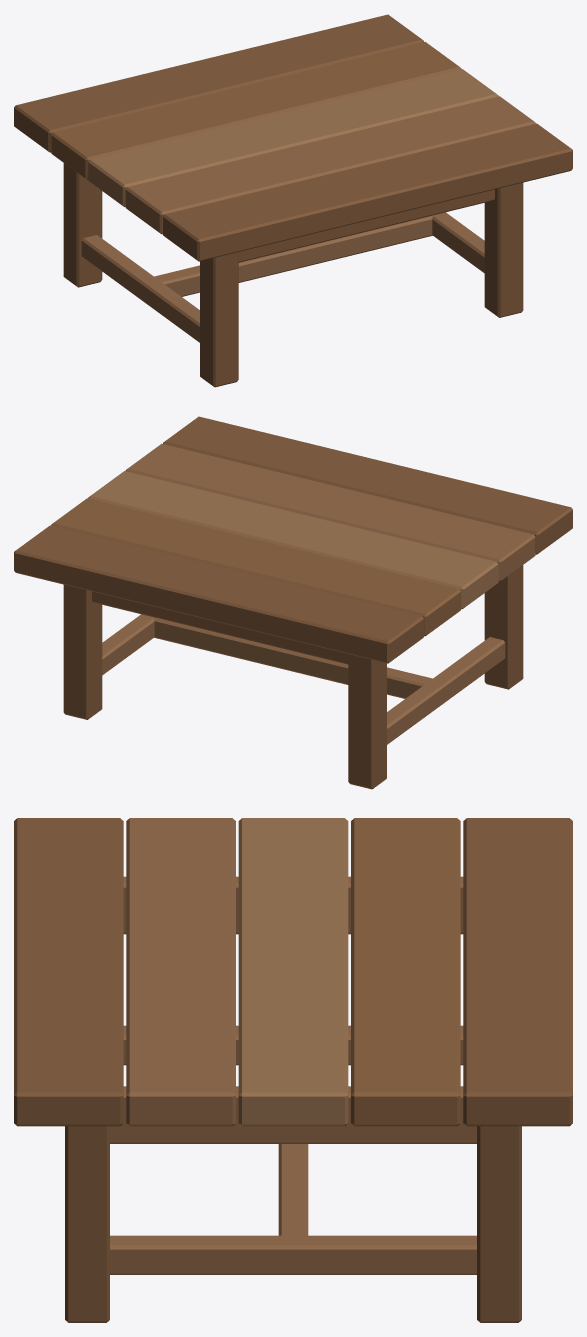
The model's file is PubTable.glb.
3 views of the same model, one above another, from view 1: azimuth 30°, elevation 25°; view 2: azimuth 150°, elevation 25°; view 3: azimuth 270°, elevation 25° (orthographic). The views are drawn at different scales.
Visible parts, largest first — view 1: TopPlank_00, TopPlank_04, TopPlank_02, TopPlank_03, TopPlank_01, LowStretcher, Leg, Leg.002, CrossStretcher, Leg.001, SideApron, CrossStretcher.001; view 2: TopPlank_04, TopPlank_00, TopPlank_01, TopPlank_02, TopPlank_03, LowStretcher, Leg.001, Leg.003, CrossStretcher, Leg, SideApron.001, CrossStretcher.001; view 3: TopPlank_02, TopPlank_00, TopPlank_01, TopPlank_03, TopPlank_04, CrossStretcher.001, Leg.002, Leg.003, EndApron.001, LowStretcher, EndApron.
Part boxes in pixels (x1=…): TopPlank_00: x1=163, y1=123, x2=572, y2=261; TopPlank_04: x1=14, y1=14, x2=423, y2=152; TopPlank_02: x1=88, y1=69, x2=498, y2=206; TopPlank_03: x1=51, y1=41, x2=461, y2=179; TopPlank_01: x1=125, y1=96, x2=535, y2=234; LowStretcher: x1=153, y1=213, x2=442, y2=296; Leg: x1=200, y1=252, x2=238, y2=387; Leg.002: x1=484, y1=182, x2=523, y2=317; CrossStretcher: x1=81, y1=235, x2=199, y2=342; Leg.001: x1=63, y1=163, x2=102, y2=287; SideApron: x1=238, y1=189, x2=494, y2=262; CrossStretcher.001: x1=432, y1=212, x2=484, y2=273; TopPlank_04: x1=14, y1=525, x2=423, y2=663; TopPlank_00: x1=163, y1=416, x2=572, y2=554; TopPlank_01: x1=125, y1=443, x2=535, y2=581; TopPlank_02: x1=88, y1=471, x2=498, y2=608; TopPlank_03: x1=51, y1=498, x2=461, y2=636; LowStretcher: x1=144, y1=615, x2=432, y2=698; Leg.001: x1=348, y1=654, x2=386, y2=789; Leg.003: x1=63, y1=584, x2=102, y2=719; CrossStretcher: x1=387, y1=637, x2=505, y2=744; Leg: x1=484, y1=565, x2=523, y2=689; SideApron.001: x1=92, y1=591, x2=348, y2=664; CrossStretcher.001: x1=102, y1=614, x2=154, y2=675; TopPlank_02: x1=238, y1=818, x2=348, y2=1126; TopPlank_00: x1=14, y1=818, x2=123, y2=1126; TopPlank_01: x1=126, y1=818, x2=235, y2=1126; TopPlank_03: x1=351, y1=818, x2=460, y2=1126; TopPlank_04: x1=463, y1=818, x2=572, y2=1126; CrossStretcher.001: x1=110, y1=1235, x2=476, y2=1274; Leg.002: x1=65, y1=1126, x2=109, y2=1322; Leg.003: x1=477, y1=1126, x2=521, y2=1322; EndApron.001: x1=110, y1=1086, x2=476, y2=1143; LowStretcher: x1=278, y1=1144, x2=308, y2=1242; EndApron: x1=123, y1=876, x2=463, y2=934.
Bounding box in the file's own units: 7 × 3 × 5.97.
